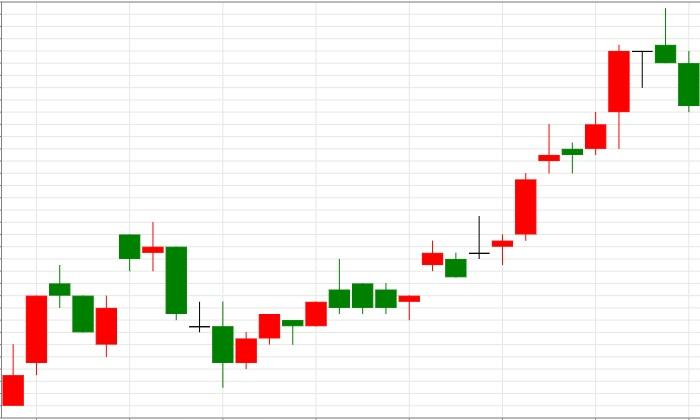bullish_engulfing_rise: (118, 221, 234, 388)
evening_star_fall: (444, 8, 677, 277)
